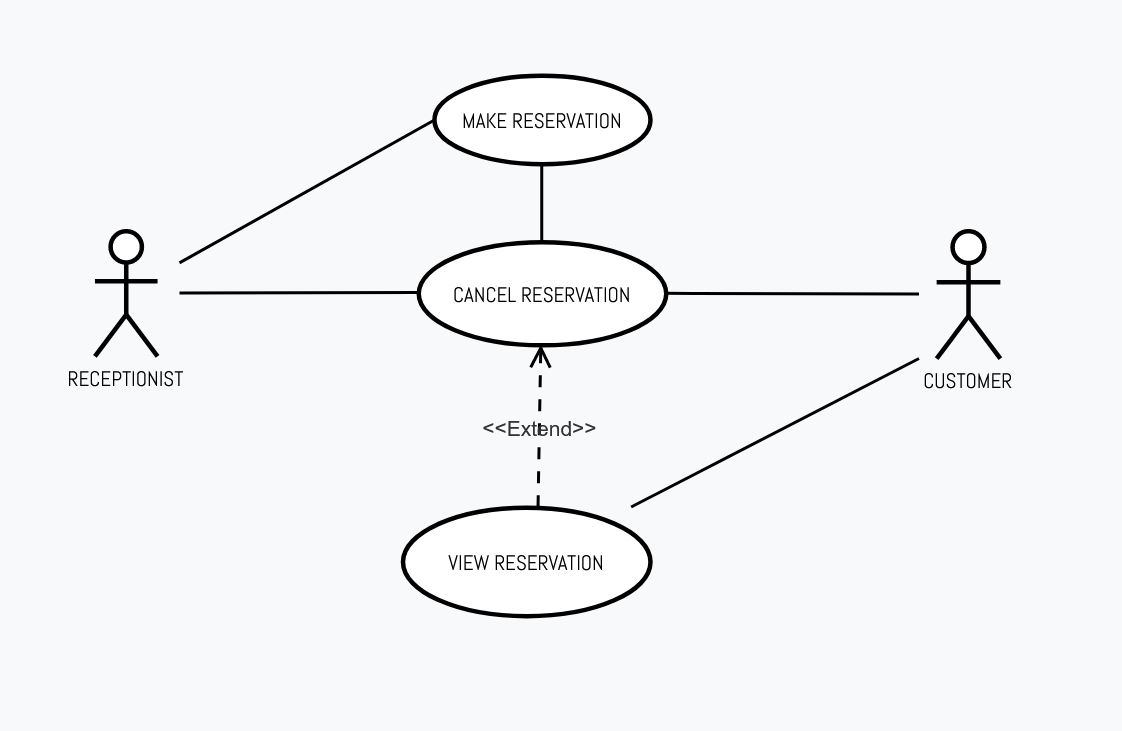actor: (934, 225, 1008, 363), (92, 225, 163, 361)
association: (630, 356, 921, 509), (178, 119, 433, 266), (668, 272, 919, 313), (178, 273, 416, 310), (525, 348, 554, 504), (530, 165, 558, 238)
text: (447, 270, 634, 313), (459, 105, 624, 138), (448, 549, 609, 578), (61, 367, 187, 394), (479, 414, 605, 439), (922, 370, 1018, 393)
use_case: (401, 503, 653, 620), (416, 239, 668, 349), (431, 72, 653, 168)
